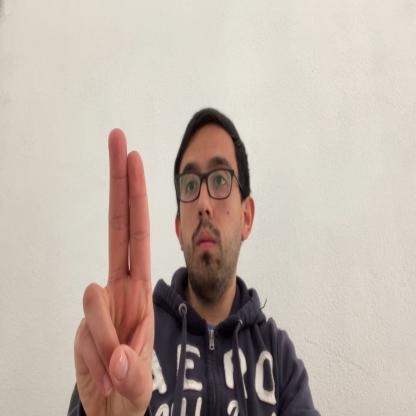U: (73, 130, 155, 415)
